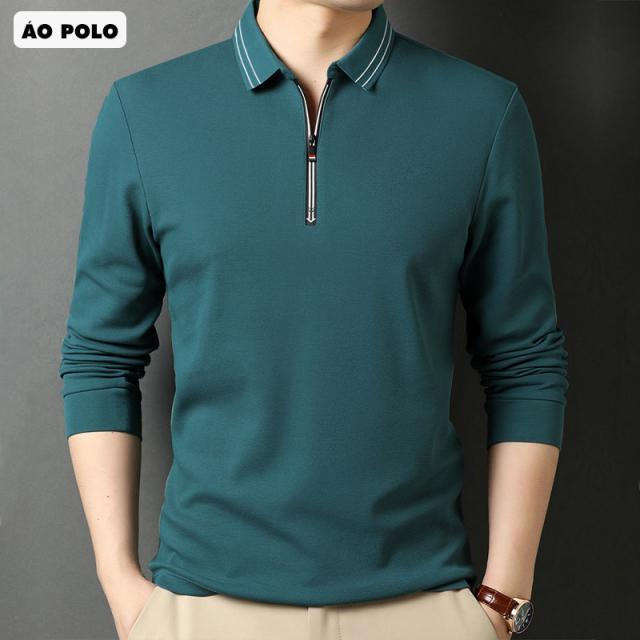Shirt: (61, 0, 568, 606)
